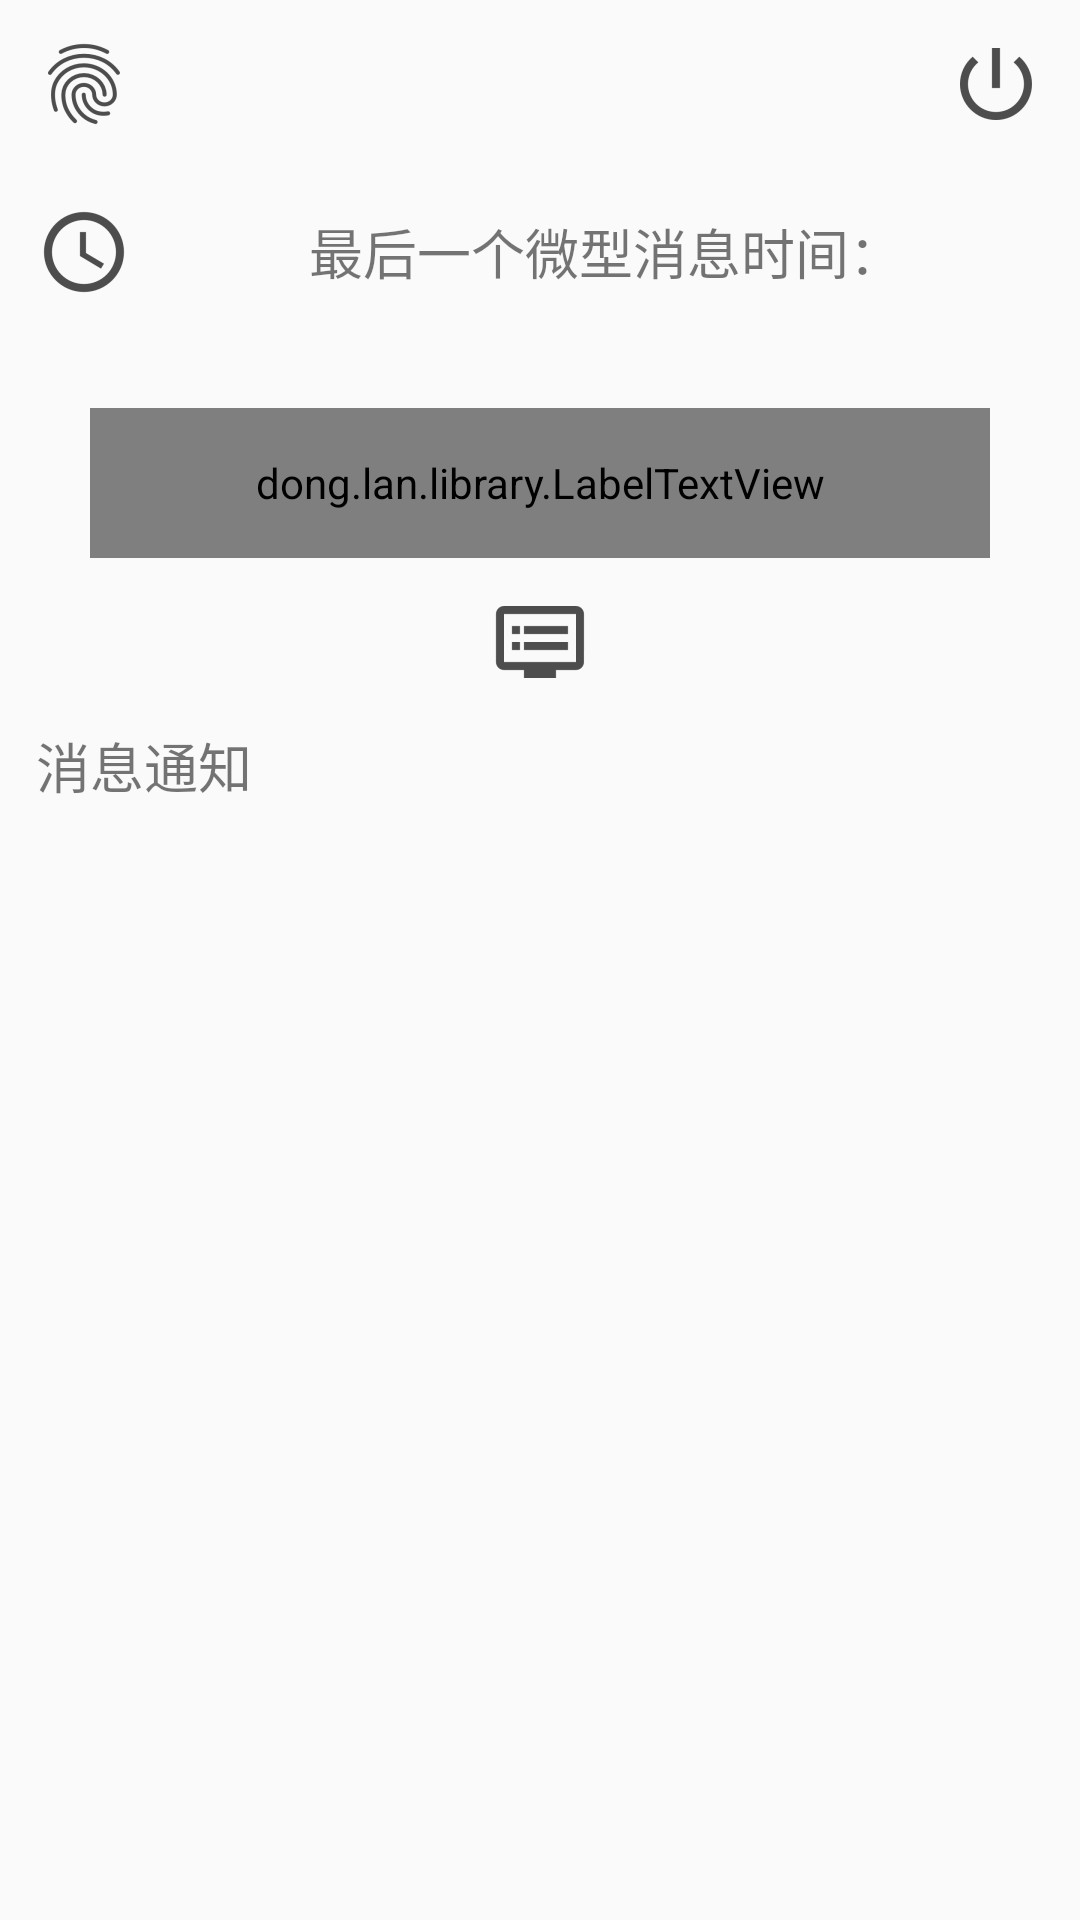

Where to tap for icons on this 1080 × 1920 app screen, as [x,y]:
power: [996,84]
